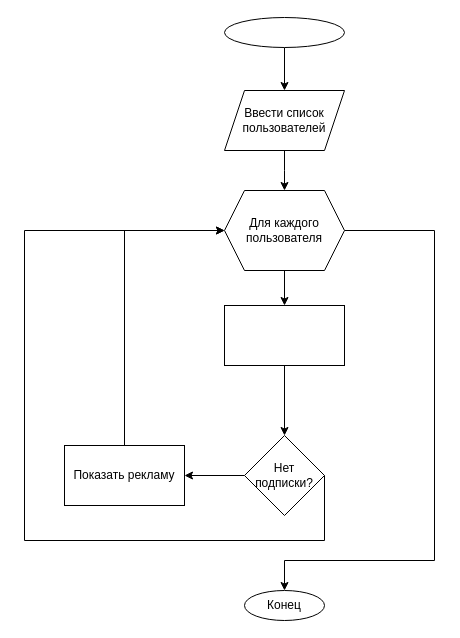
Image size: 460x638. Some labels were removed from this diagram. The shapes that lost their labels are listed below. From the top down, each one's centre as x and y in pixels, then its label:
At (284,32): "Начало".
At (284,335): "Поприветствовать".
